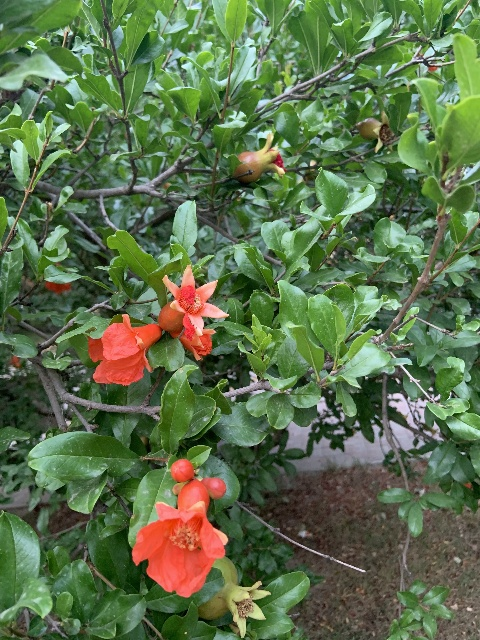bud: (170, 457, 194, 483), (200, 477, 225, 499), (172, 483, 186, 496)
early-fruit: (232, 131, 285, 183), (357, 111, 400, 153)
flower: (132, 480, 226, 597), (87, 313, 161, 386), (158, 263, 229, 335), (169, 328, 216, 361)
mid-growth: (195, 557, 270, 637)
